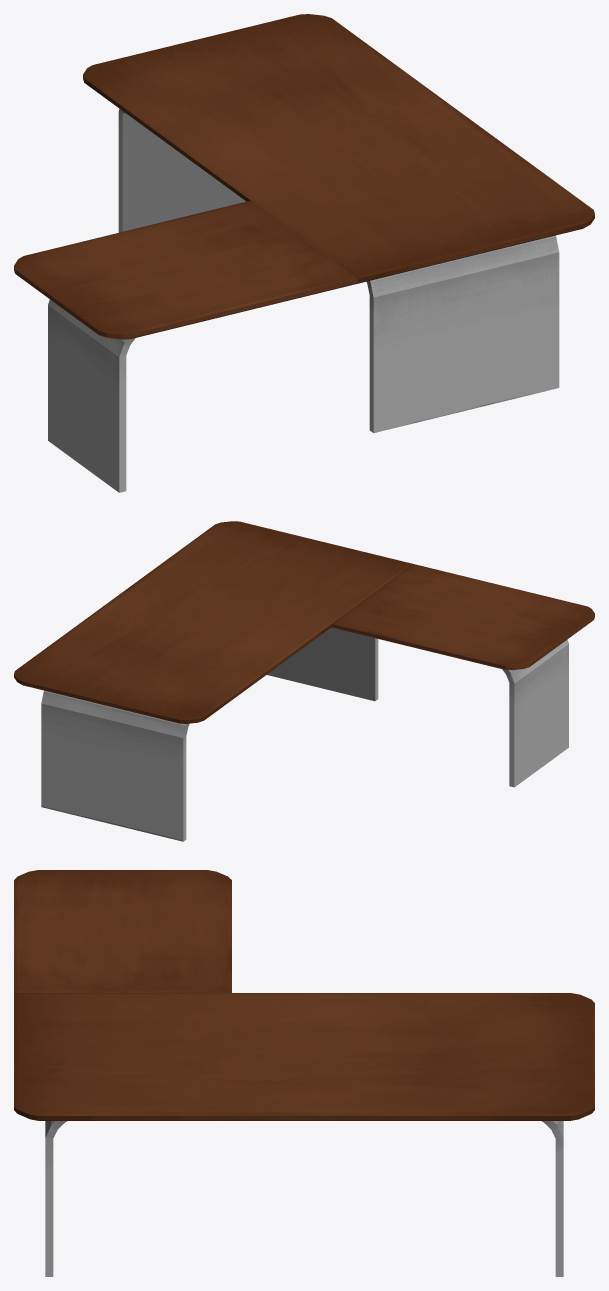
The model's file is table.fbx.
3 renders of one model, top to bottom at view 1: azimuth 30°, elevation 25°; view 2: azimuth 150°, elevation 25°; view 3: azimuth 270°, elevation 25°, orthographic. The views are drawn at different scales.
Parts seen in each view (by area): view 1: Plane; view 2: Plane; view 3: Plane.
Part boxes in pixels (x1,y1,x2,y2): Plane: [14, 14, 594, 492]; Plane: [14, 521, 594, 841]; Plane: [14, 870, 594, 1276].
Size of the model in its own units: 400 by 134 by 399.
1 material, 1 textured.
